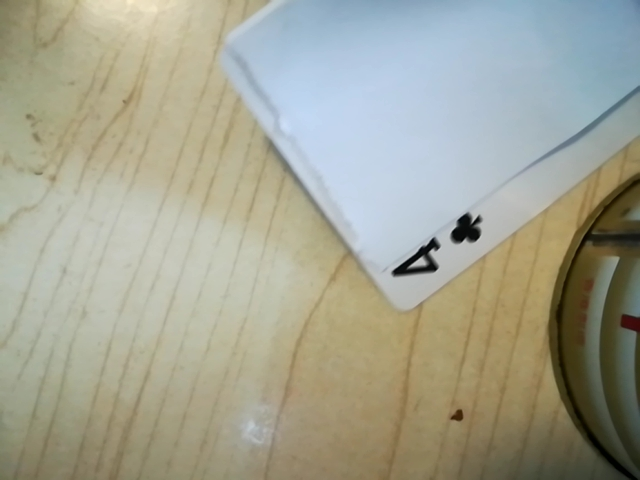mh 4: (385, 199, 500, 290)
